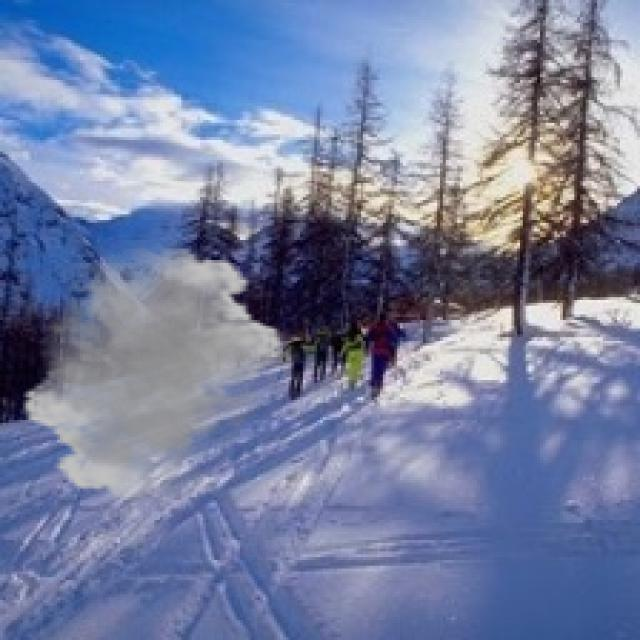Smoke: (20, 243, 286, 506)
